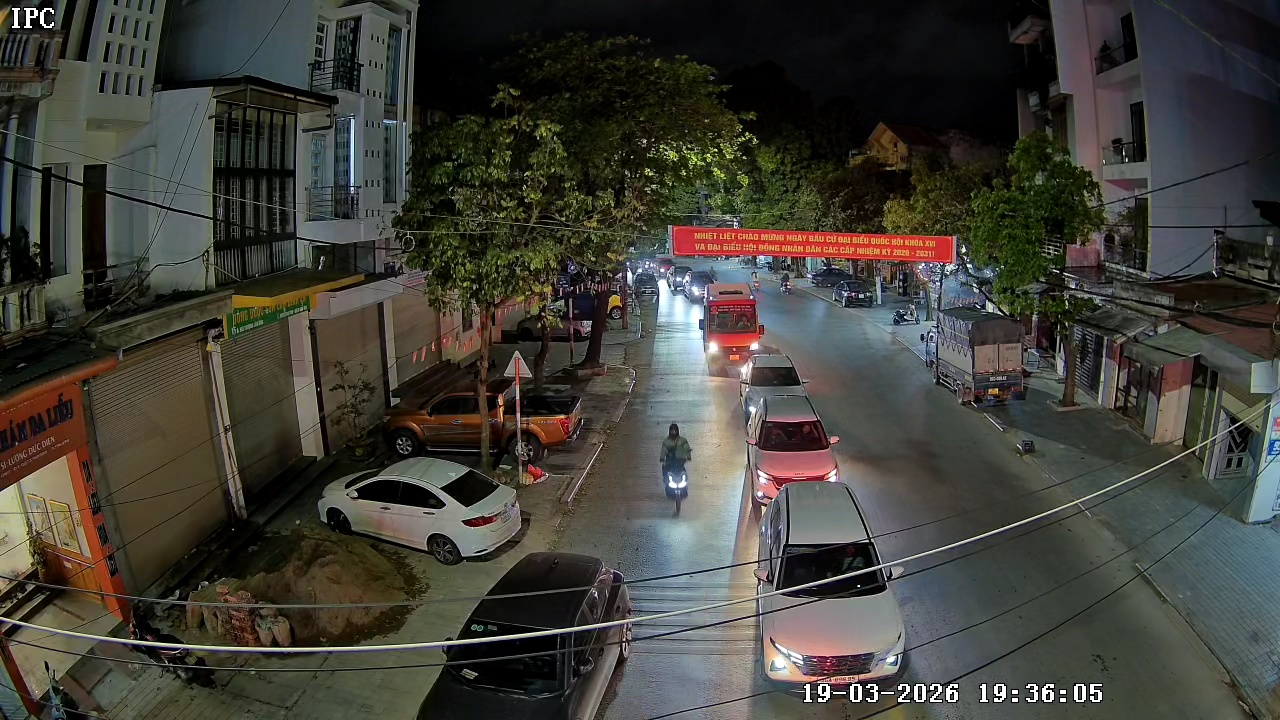bus: (703, 283, 766, 371)
car: (414, 550, 636, 719), (753, 477, 905, 704), (318, 454, 530, 561), (743, 390, 842, 510), (736, 349, 809, 431), (837, 279, 875, 308)
motorbike: (658, 421, 695, 516)
truck: (923, 313, 1030, 406)
